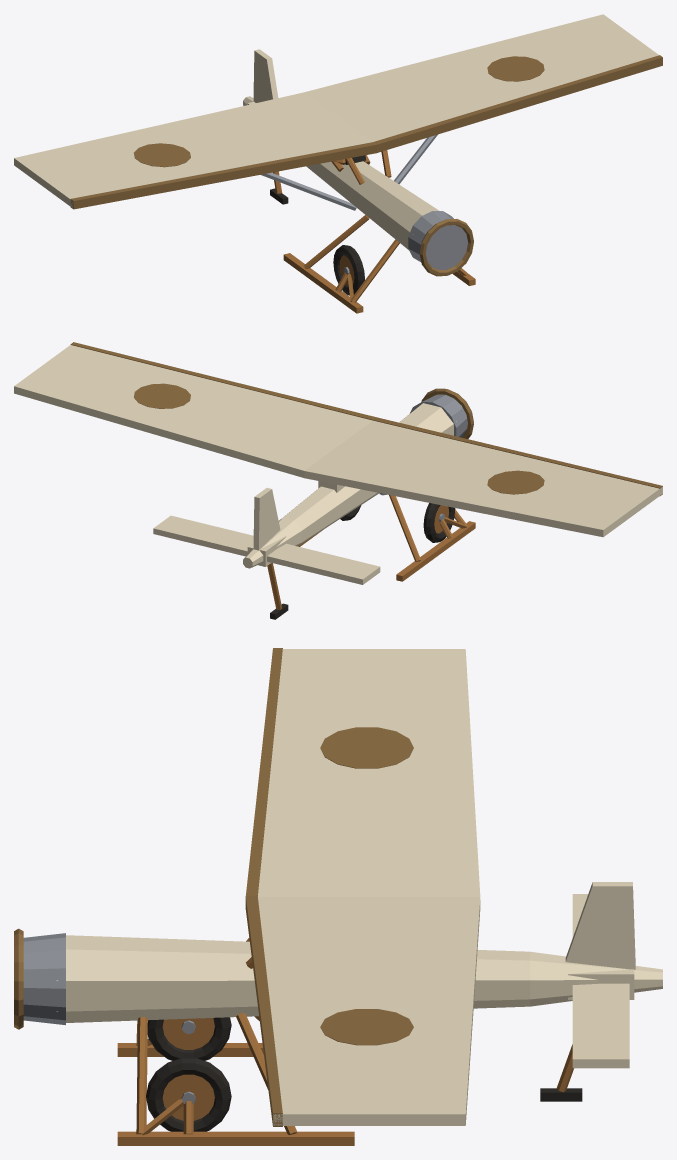
File: body.glb
The picture shows the model from 3 angles, top to bottom: view 1: azimuth 30°, elevation 25°; view 2: azimuth 150°, elevation 25°; view 3: azimuth 270°, elevation 25°; orthographic projection. The views are drawn at different scales.
Visible parts, largest first — view 1: wing_0, wing_0_leading_edge, fuselage, engine_cowl, roundel_0_r, roundel_0_l, vertical_fin, cowl_ring, skid_l, tire, lift_strut_l, skid_strut_l_r (+1 smaller); view 2: wing_0, horizontal_stabilizer, fuselage, wing_0_leading_edge, vertical_fin, roundel_0_r, roundel_0_l, tail_cone, skid_l, engine_cowl, tire, cowl_ring (+1 smaller); view 3: wing_0, fuselage, wing_0_leading_edge, horizontal_stabilizer, vertical_fin, tire (×2), engine_cowl, skid_r, tail_cone, roundel_0_l, rim (×2), roundel_0_r (+5 smaller).
Boxes of the visible parts, x1,y1,x2,y2 form: wing_0: [14, 14, 658, 207]; wing_0_leading_edge: [70, 55, 662, 209]; fuselage: [306, 161, 439, 249]; engine_cowl: [408, 211, 467, 269]; roundel_0_r: [487, 56, 544, 81]; roundel_0_l: [134, 143, 190, 167]; vertical_fin: [253, 49, 278, 102]; cowl_ring: [419, 219, 473, 276]; skid_l: [283, 253, 363, 313]; tire: [333, 245, 364, 295]; lift_strut_l: [260, 172, 356, 210]; skid_strut_l_r: [303, 215, 369, 268]; wing_0: [14, 345, 662, 537]; horizontal_stabilizer: [153, 515, 380, 584]; fuselage: [283, 403, 456, 546]; wing_0_leading_edge: [70, 342, 662, 495]; vertical_fin: [253, 488, 280, 550]; roundel_0_r: [134, 383, 190, 408]; roundel_0_l: [487, 470, 544, 494]; tail_cone: [243, 517, 302, 568]; skid_l: [396, 521, 475, 581]; engine_cowl: [410, 394, 467, 437]; tire: [423, 503, 455, 542]; cowl_ring: [421, 388, 473, 438]; wing_0: [258, 649, 480, 1125]; fuselage: [56, 935, 530, 1022]; wing_0_leading_edge: [245, 648, 282, 1126]; horizontal_stabilizer: [572, 894, 629, 1068]; vertical_fin: [565, 882, 635, 969]; tire (×2): [146, 1017, 231, 1131]; engine_cowl: [23, 933, 65, 1025]; skid_r: [117, 1131, 354, 1145]; tail_cone: [530, 951, 662, 1006]; roundel_0_l: [320, 727, 413, 768]; rim (×2): [162, 1018, 214, 1120]; roundel_0_r: [320, 1009, 413, 1045].
Bounding box in the file's own units: 11.04 × 2.42 × 6.51.
